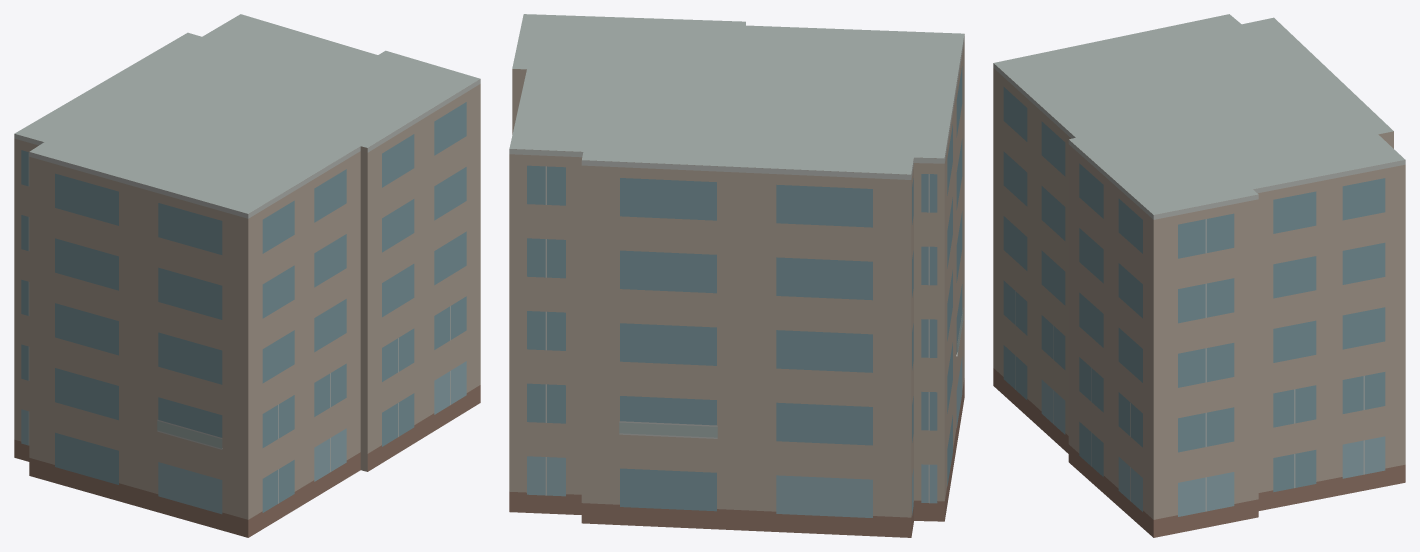
Rendered from survey-upis-32960579.glb.
The picture shows the model from 3 angles, left to right: view 1: azimuth 30°, elevation 25°; view 2: azimuth 150°, elevation 25°; view 3: azimuth 270°, elevation 25°; orthographic projection. The views are drawn at different scales.
Parts seen in each view (by area): view 1: survey-upis-32960579.tmp; view 2: survey-upis-32960579.tmp; view 3: survey-upis-32960579.tmp.
Boxes of the visible parts, x1,y1,x2,y2 form: survey-upis-32960579.tmp: [14, 14, 480, 537]; survey-upis-32960579.tmp: [509, 14, 964, 537]; survey-upis-32960579.tmp: [993, 14, 1405, 537].
Bounding box in the file's own units: 21.75 × 16.28 × 18.84.
